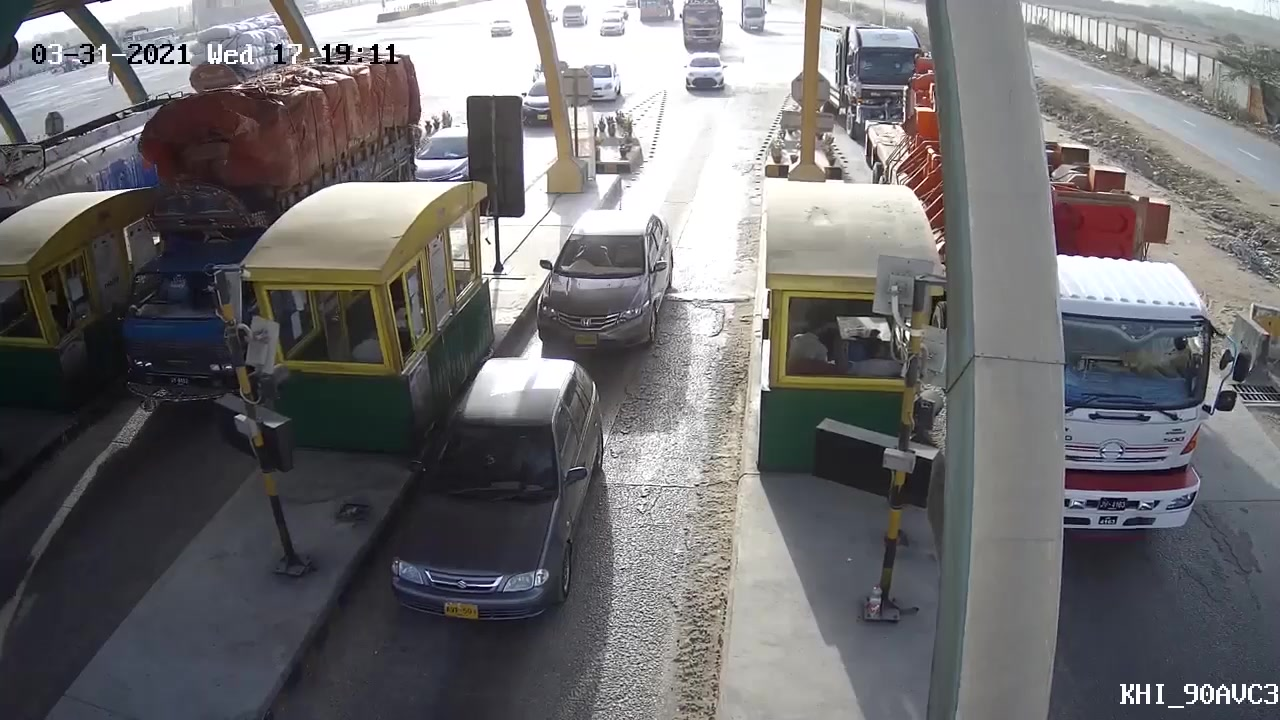F1: (386, 353, 611, 640), (531, 202, 677, 353)
